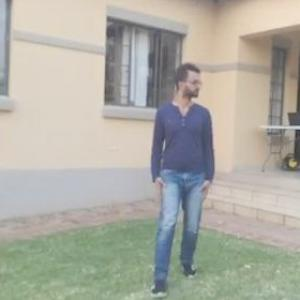follow: (142, 50, 220, 299)
